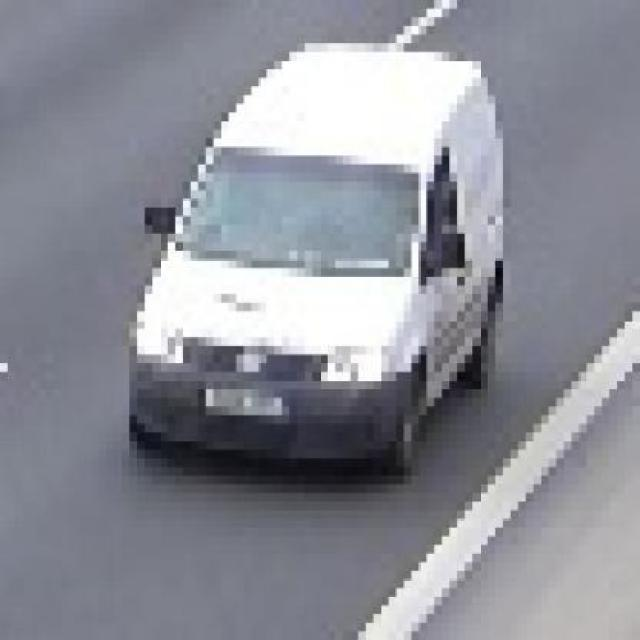vehicle: (117, 32, 521, 490)
